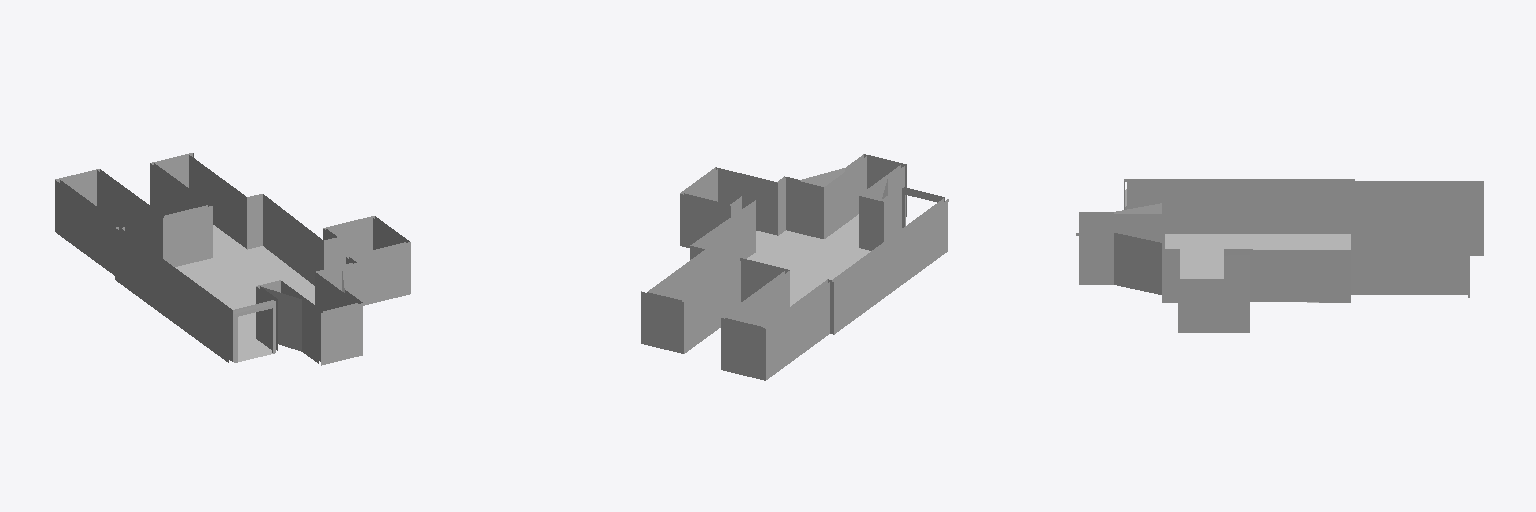
File: habitacion.obj
3 renders of one model, left to right at view 1: azimuth 30°, elevation 25°; view 2: azimuth 150°, elevation 25°; view 3: azimuth 270°, elevation 25°, orthographic.
Visible parts, largest first — view 1: polySurface10 pCube6; view 2: polySurface10 pCube6; view 3: polySurface10 pCube6.
Boxes of the visible parts, box(x1,y1,x2,y2) form: polySurface10 pCube6: box(55, 153, 410, 365); polySurface10 pCube6: box(641, 154, 948, 380); polySurface10 pCube6: box(1076, 179, 1483, 332).
Size of the model in its own units: 1998 by 483 by 3403.